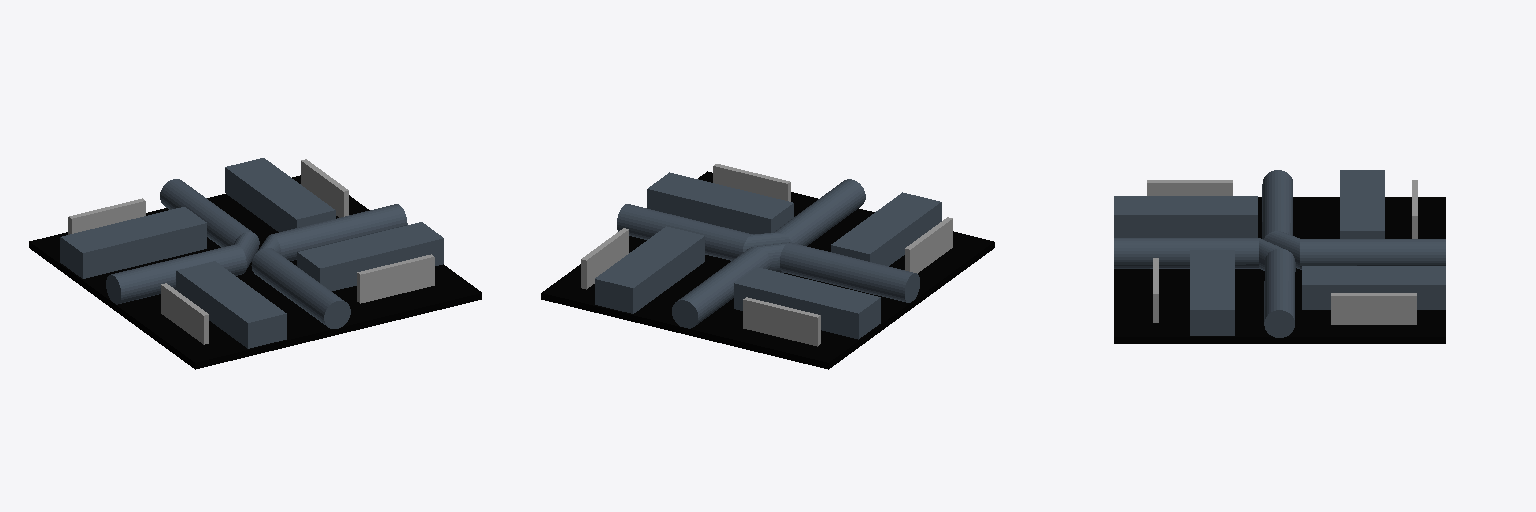
File: ceiling.obj
3 renders of one model, left to right at view 1: azimuth 30°, elevation 25°; view 2: azimuth 150°, elevation 25°; view 3: azimuth 270°, elevation 25°, orthographic.
Parts seen in each view (by area): view 1: Plane, Cylinder, Cube_Cube.001, Cylinder.001, Cube.003_Cube.004, Cube.001_Cube.002, Cube.002_Cube.003, Cube.006_Cube.007, Cube.005_Cube.006, Cube.004_Cube.005, Cube.007_Cube.008; view 2: Plane, Cylinder.001, Cylinder, Cube.002_Cube.003, Cube.001_Cube.002, Cube_Cube.001, Cube.003_Cube.004, Cube.007_Cube.008, Cube.006_Cube.007, Cube.005_Cube.006, Cube.004_Cube.005; view 3: Plane, Cylinder, Cylinder.001, Cube.003_Cube.004, Cube.002_Cube.003, Cube.001_Cube.002, Cube_Cube.001, Cube.004_Cube.005, Cube.005_Cube.006.
Part boxes in pixels (bbox=[...]): Plane: bbox=[29, 175, 481, 369]; Cylinder: bbox=[251, 204, 407, 328]; Cube_Cube.001: bbox=[60, 207, 206, 278]; Cylinder.001: bbox=[106, 179, 259, 304]; Cube.003_Cube.004: bbox=[176, 261, 286, 348]; Cube.001_Cube.002: bbox=[297, 222, 443, 291]; Cube.002_Cube.003: bbox=[225, 158, 335, 231]; Cube.006_Cube.007: bbox=[357, 254, 434, 303]; Cube.005_Cube.006: bbox=[161, 283, 208, 344]; Cube.004_Cube.005: bbox=[301, 159, 348, 217]; Cube.007_Cube.008: bbox=[68, 198, 145, 234]; Plane: bbox=[541, 171, 994, 369]; Cylinder.001: bbox=[672, 242, 919, 328]; Cylinder: bbox=[617, 179, 865, 260]; Cube.002_Cube.003: bbox=[595, 226, 704, 313]; Cube.001_Cube.002: bbox=[647, 172, 793, 233]; Cube_Cube.001: bbox=[734, 267, 880, 339]; Cube.003_Cube.004: bbox=[831, 192, 941, 265]; Cube.007_Cube.008: bbox=[743, 297, 820, 346]; Cube.006_Cube.007: bbox=[713, 164, 790, 201]; Cube.005_Cube.006: bbox=[905, 217, 952, 273]; Cube.004_Cube.005: bbox=[581, 228, 628, 289]; Plane: bbox=[1114, 197, 1445, 343]; Cylinder: bbox=[1114, 238, 1295, 337]; Cylinder.001: bbox=[1262, 170, 1445, 269]; Cube.003_Cube.004: bbox=[1114, 196, 1257, 237]; Cube.002_Cube.003: bbox=[1302, 266, 1445, 309]; Cube.001_Cube.002: bbox=[1190, 250, 1234, 335]; Cube_Cube.001: bbox=[1340, 170, 1384, 238]; Cube.004_Cube.005: bbox=[1331, 293, 1416, 324]; Cube.005_Cube.006: bbox=[1147, 180, 1232, 195].
Size of the model in its own units: 8 by 0.9505 by 8.